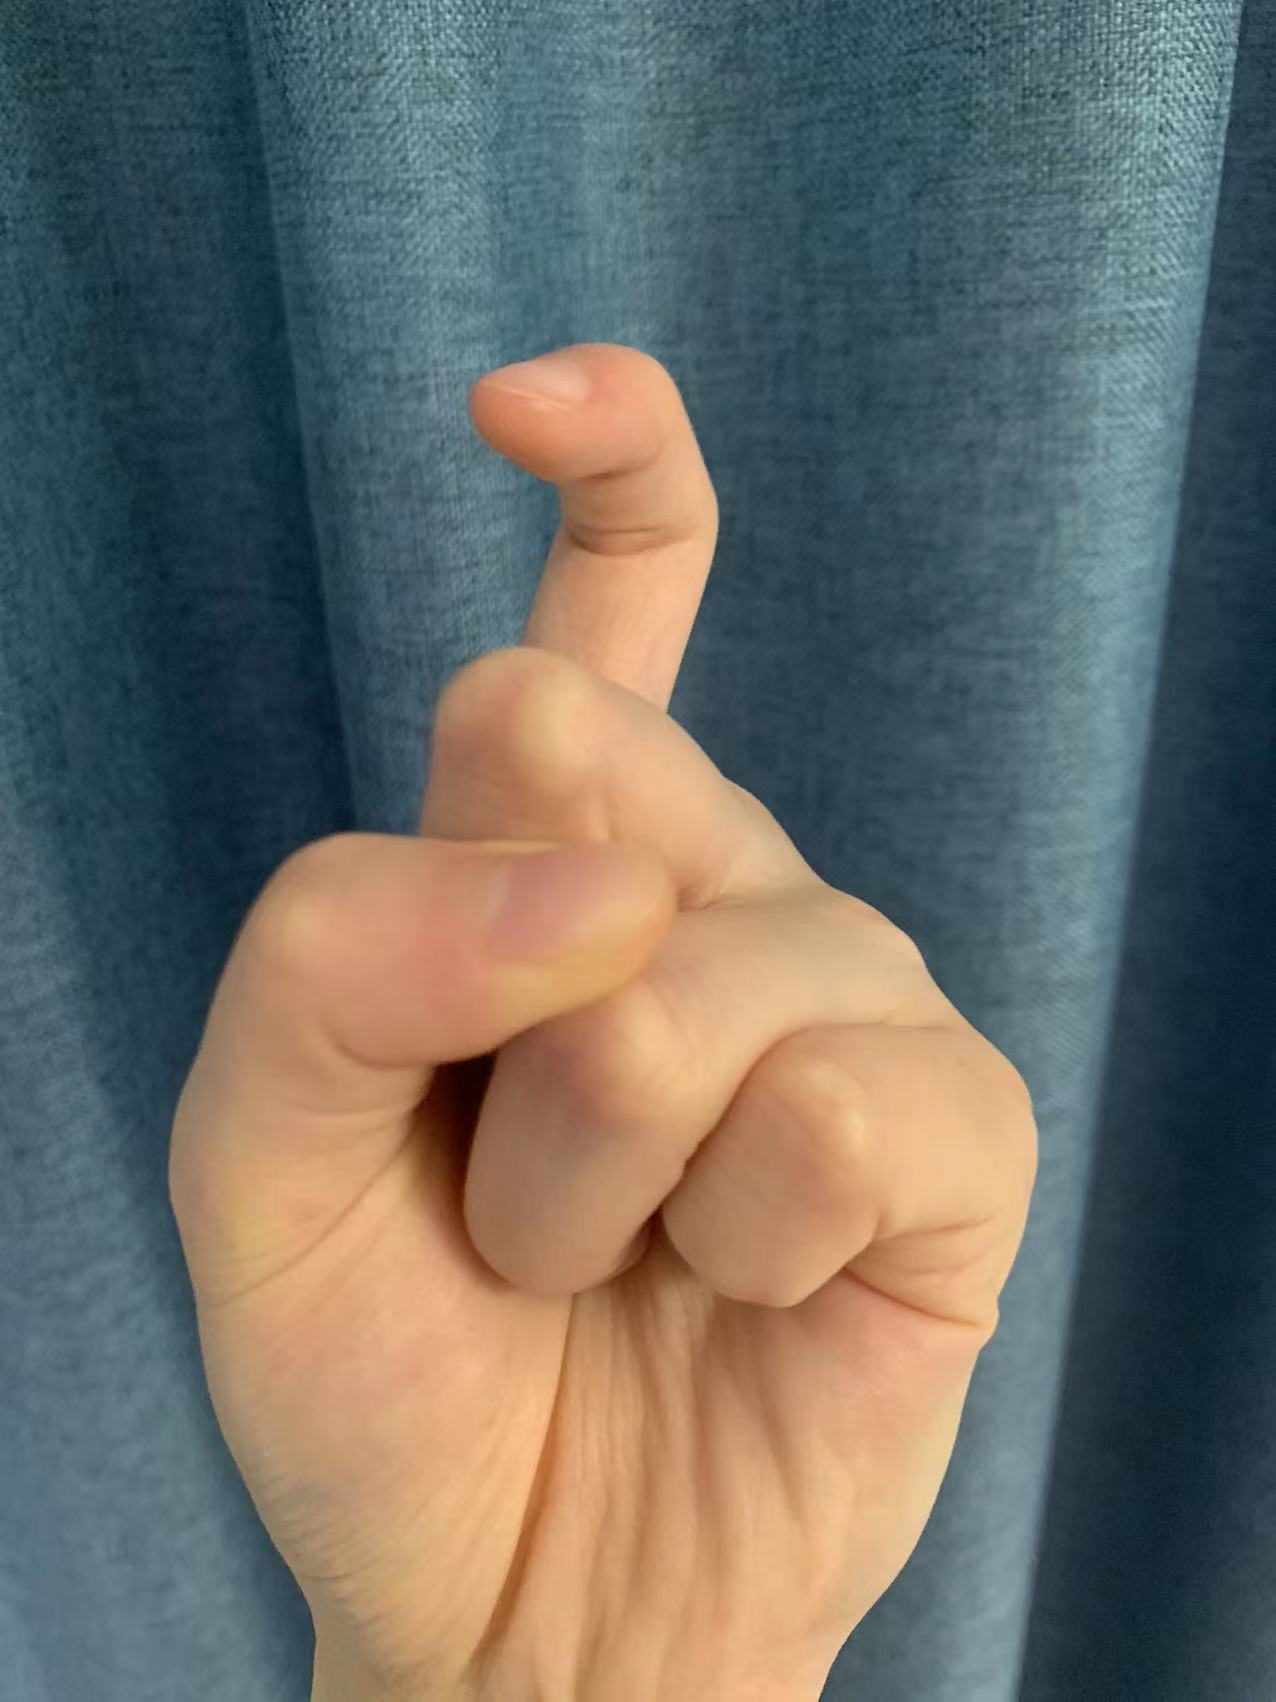anticlockwise: (97, 327, 1015, 1559)
